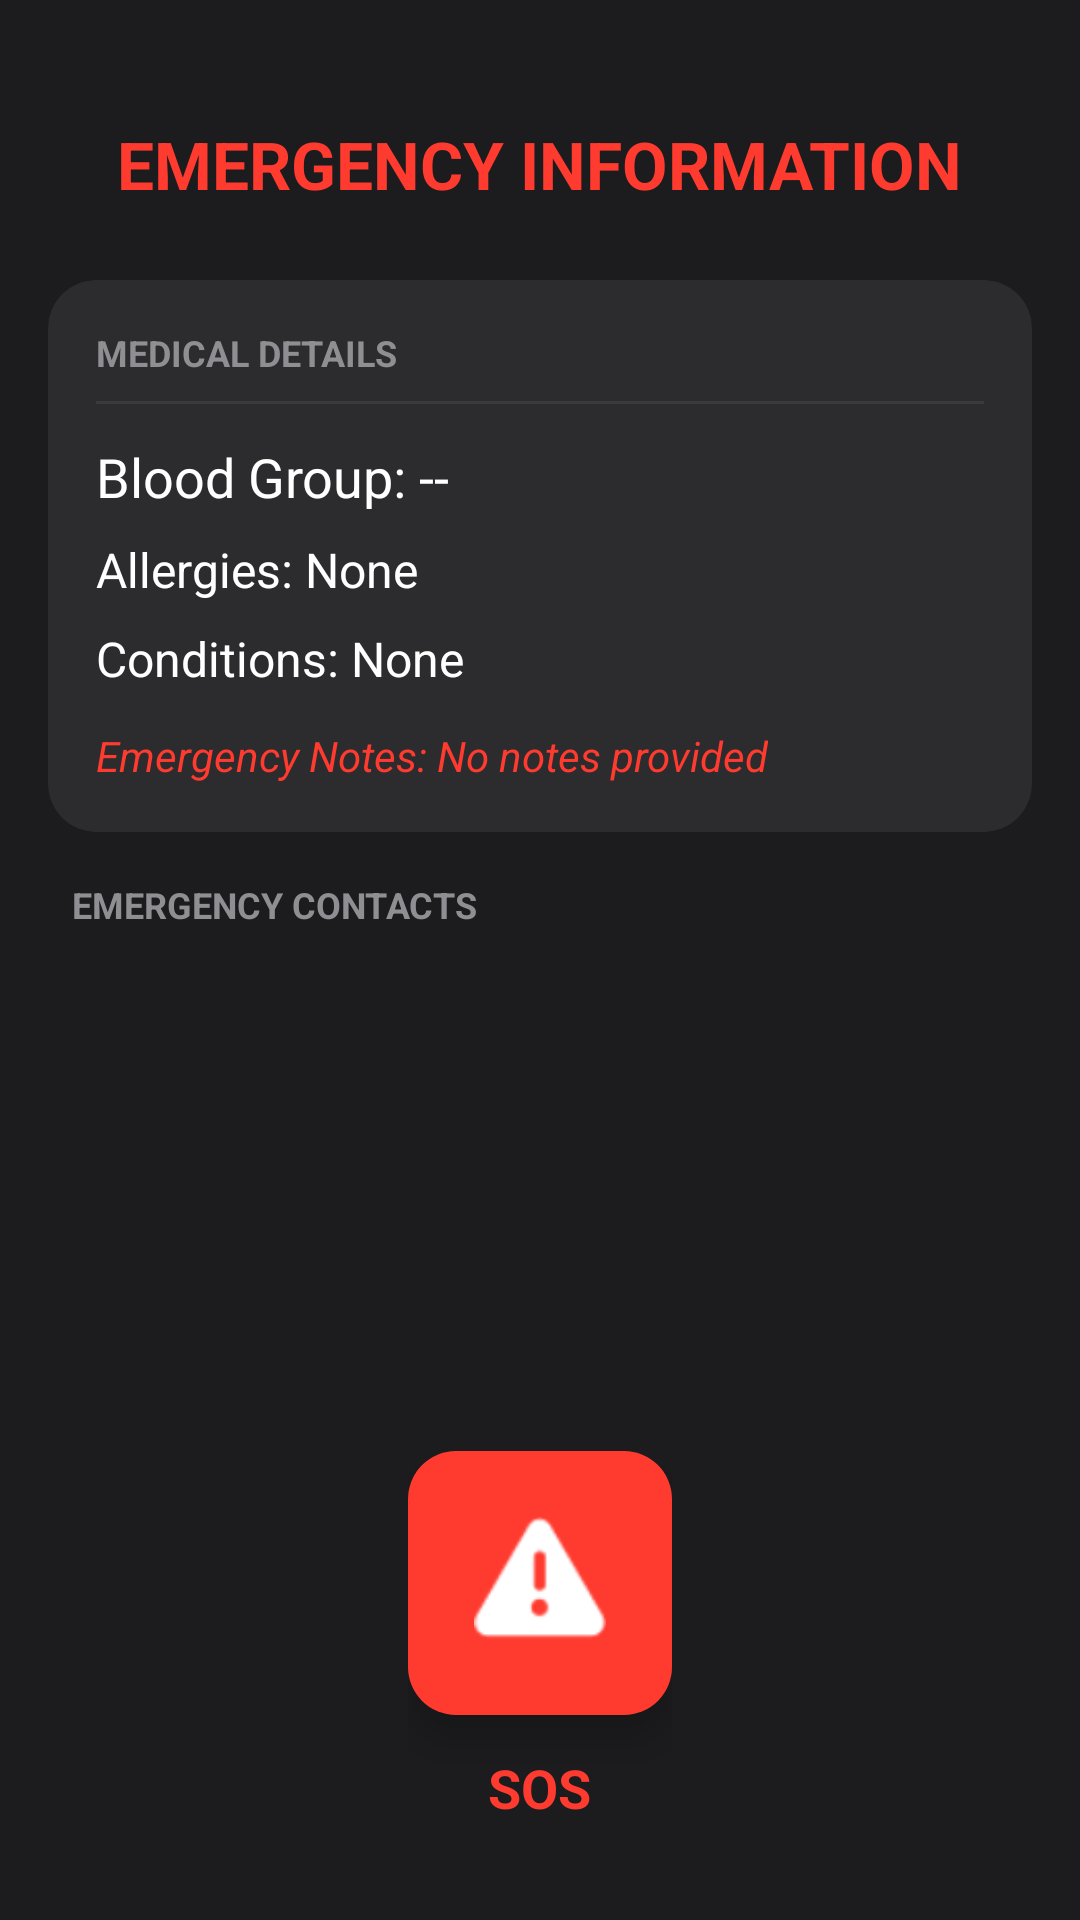

Where icons sit on this 1080px×1920px app screen, as detection(x1, y1, x2, y2):
alert: detection(408, 1451, 672, 1715)
